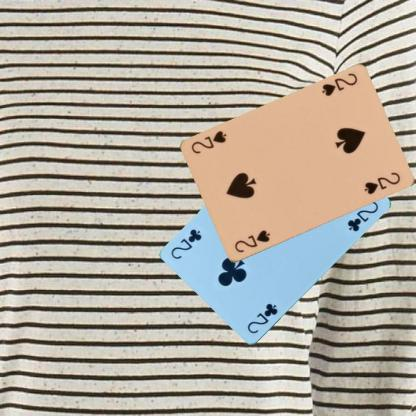2c: (245, 301, 280, 335)
2s: (319, 71, 359, 98), (232, 228, 272, 254)
